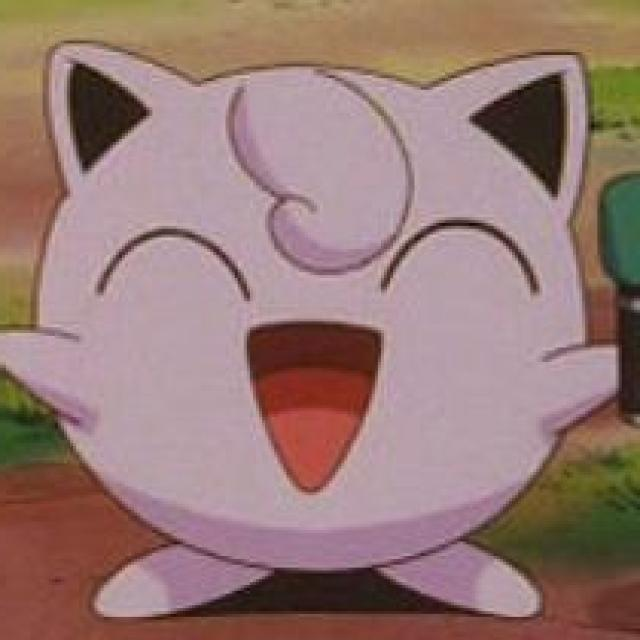Jigglypuff: (0, 38, 617, 621)
